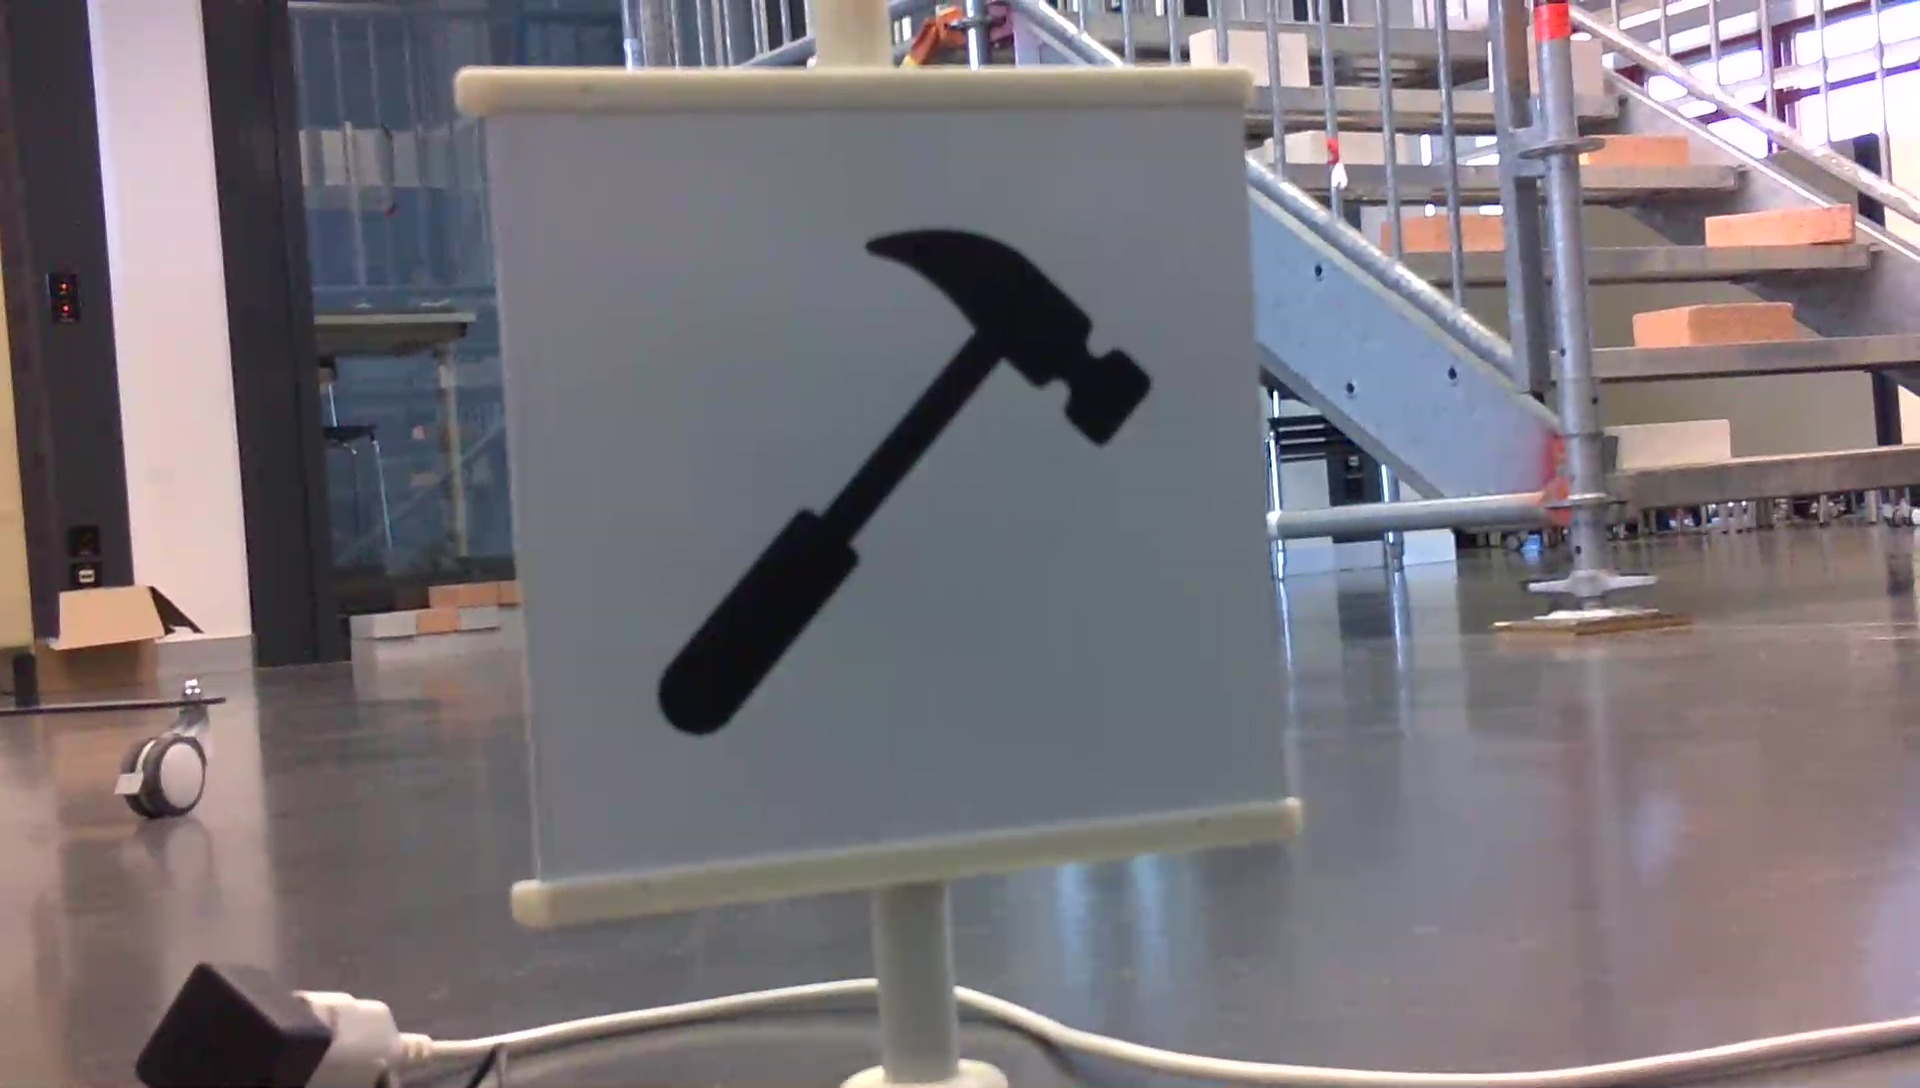brick: (1635, 305, 1792, 346), (1706, 206, 1850, 247), (1610, 422, 1730, 466), (1590, 133, 1691, 171), (1571, 41, 1604, 94)
hammer: (640, 218, 1160, 740)
